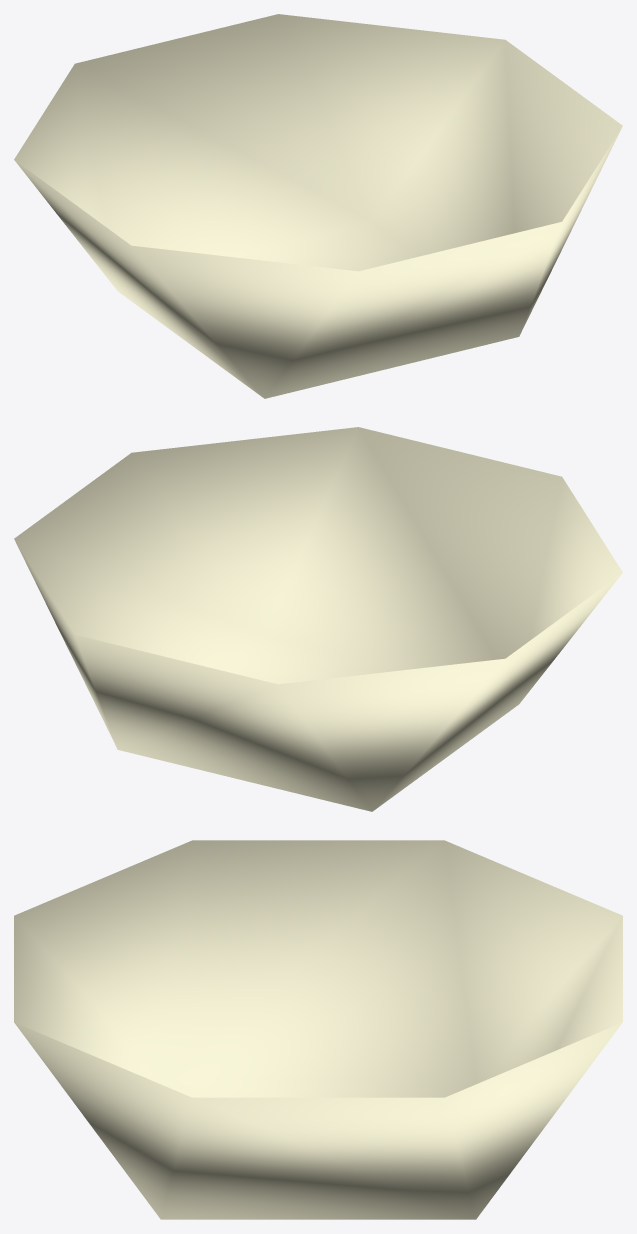
File: Cooking_Dish.glb
3 renders of one model, top to bottom at view 1: azimuth 30°, elevation 25°; view 2: azimuth 150°, elevation 25°; view 3: azimuth 270°, elevation 25°, orthographic. The views are drawn at different scales.
Parts seen in each view (by area): view 1: Cooking Dish; view 2: Cooking Dish; view 3: Cooking Dish.
Boxes of the visible parts, left/top/right/bottom form: Cooking Dish: left=14, top=14, right=622, bottom=398; Cooking Dish: left=14, top=427, right=622, bottom=811; Cooking Dish: left=14, top=840, right=622, bottom=1219.
Bounding box in the file's own units: 0.375 × 0.125 × 0.375.
